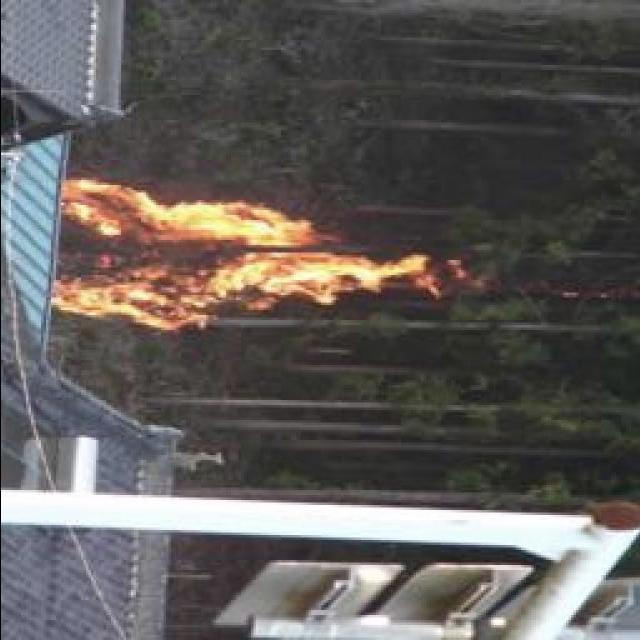Fire: (51, 174, 442, 327)
